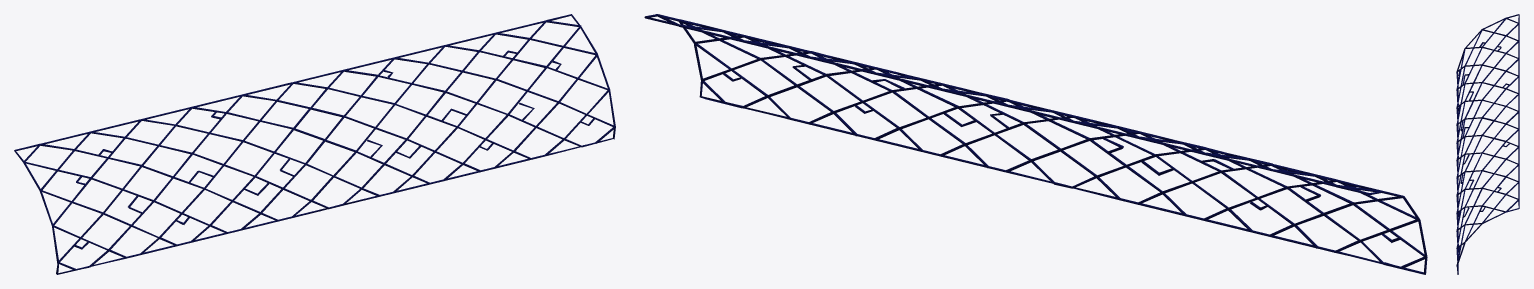
The model's file is Al_Nasar_Football_Stadium_FrontWallBeams.FBX.
3 renders of one model, left to right at view 1: azimuth 30°, elevation 25°; view 2: azimuth 150°, elevation 25°; view 3: azimuth 270°, elevation 25°, orthographic. The views are drawn at different scales.
Parts seen in each view (by area): view 1: Al_Nasar_Football_Stadium_FrontWallBeams; view 2: Al_Nasar_Football_Stadium_FrontWallBeams; view 3: Al_Nasar_Football_Stadium_FrontWallBeams.
Part boxes in pixels (bbox=[...]): Al_Nasar_Football_Stadium_FrontWallBeams: bbox=[14, 14, 615, 274]; Al_Nasar_Football_Stadium_FrontWallBeams: bbox=[644, 14, 1427, 274]; Al_Nasar_Football_Stadium_FrontWallBeams: bbox=[1456, 14, 1519, 274].
Size of the model in its own units: 14141 by 1948 by 2285.
